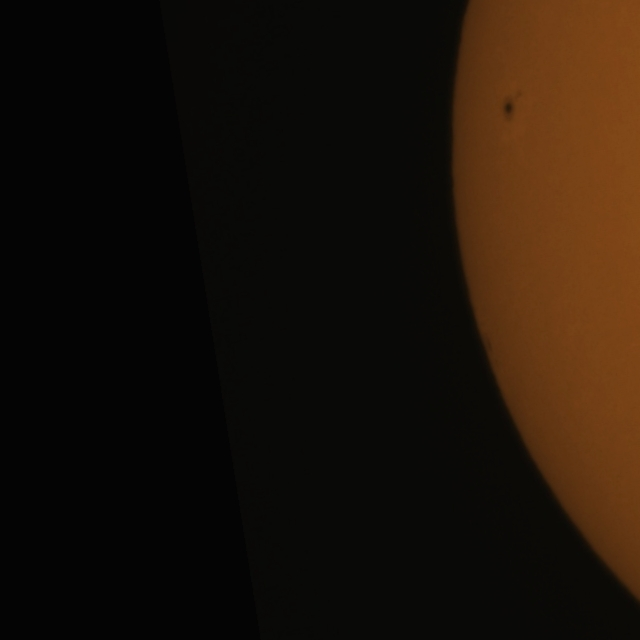sunspot: (500, 90, 521, 124)
